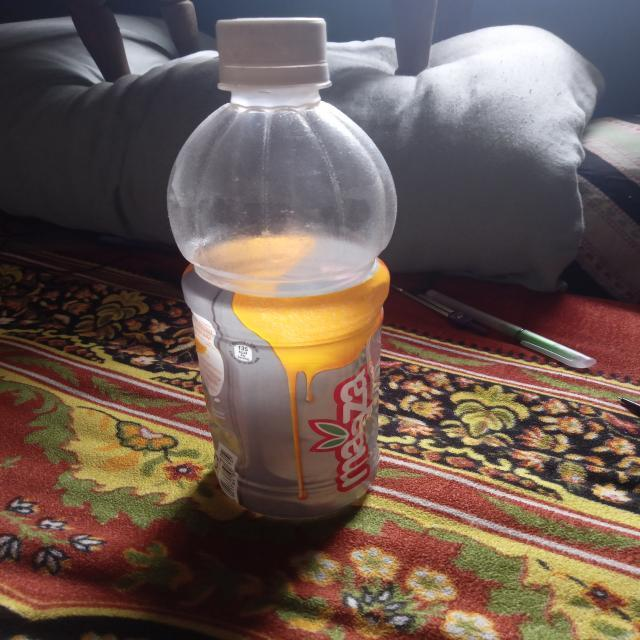plastic_bottle: (166, 17, 398, 520)
